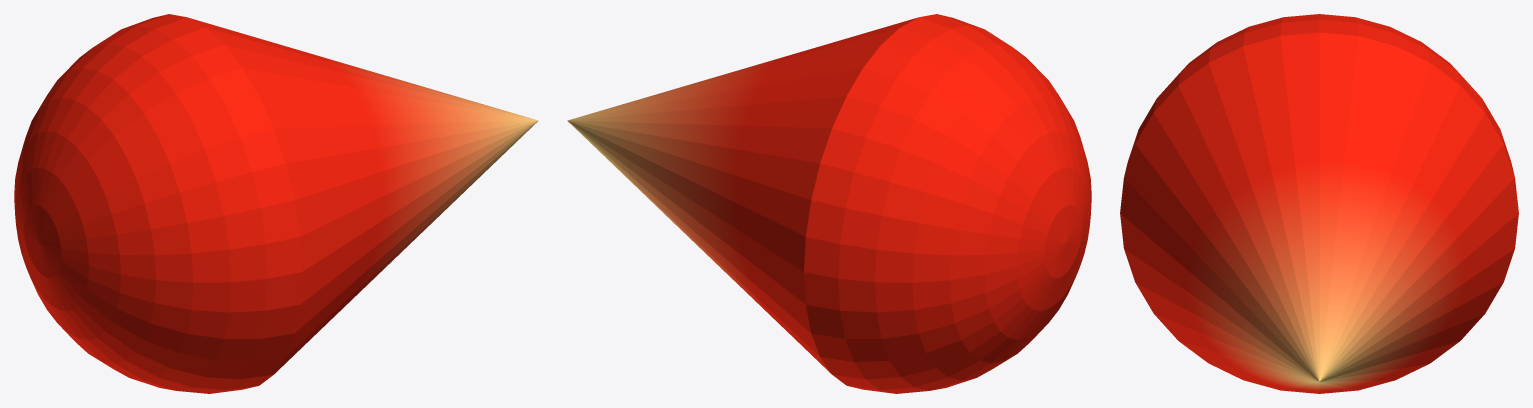
The model's file is firework.obj.
3 views of the same model, side by side, from view 1: azimuth 30°, elevation 25°; view 2: azimuth 150°, elevation 25°; view 3: azimuth 270°, elevation 25° (orthographic). The views are drawn at different scales.
Parts seen in each view (by area): view 1: 円錐; view 2: 円錐; view 3: 円錐.
Boxes of the visible parts, left/top/right/bottom form: 円錐: left=14, top=14, right=538, bottom=393; 円錐: left=567, top=14, right=1091, bottom=393; 円錐: left=1120, top=14, right=1518, bottom=393.
Size of the model in its own units: 0.75 by 0.5 by 0.5.
